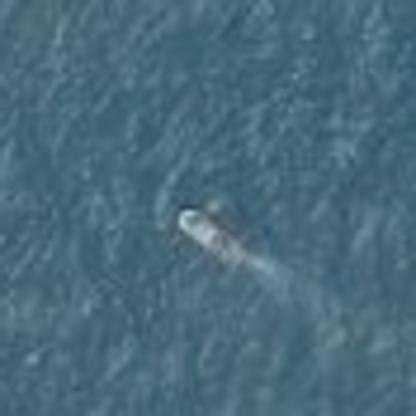ship: (166, 200, 244, 265)
